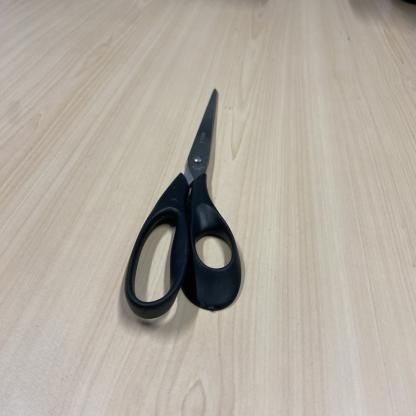scissors: (124, 88, 244, 320)
